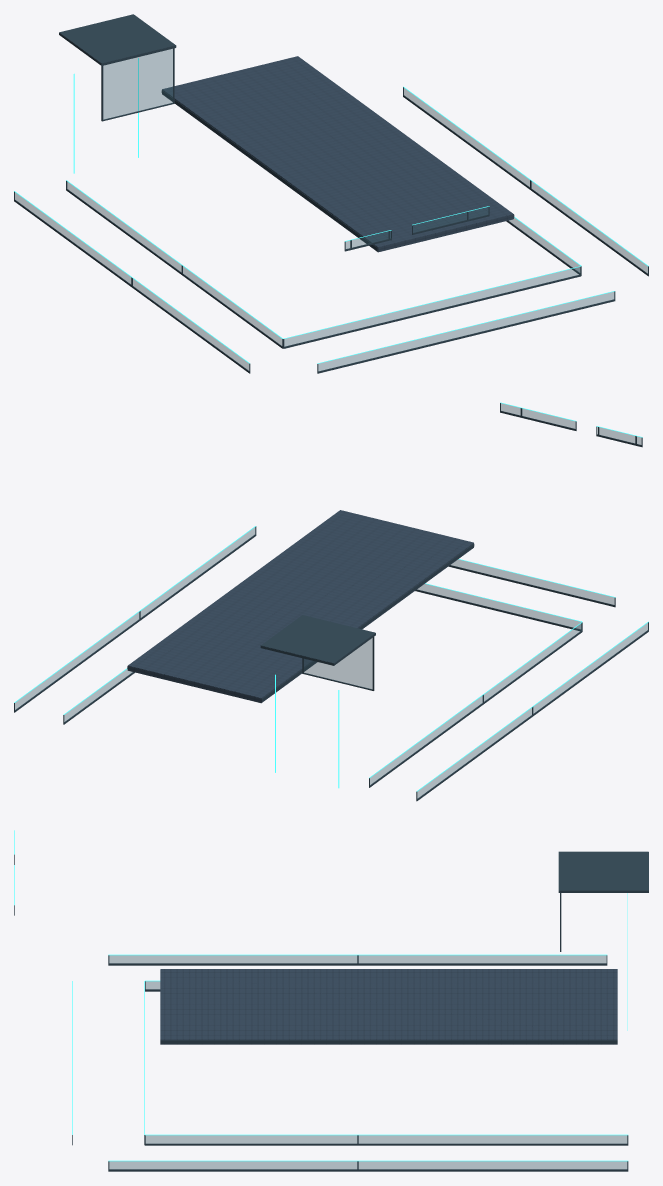
Rendered from v02-detailed-03-05.glb.
3 views of the same model, one above another, from view 1: azimuth 30°, elevation 25°; view 2: azimuth 150°, elevation 25°; view 3: azimuth 270°, elevation 25° (orthographic). The views are drawn at different scales.
Parts seen in each view (by area): view 1: v02-detailed-03-05; view 2: v02-detailed-03-05; view 3: v02-detailed-03-05.
Part boxes in pixels (x1,y1,x2,y2): v02-detailed-03-05: (14,14,648,373); v02-detailed-03-05: (14,402,648,801); v02-detailed-03-05: (14,830,648,1171).
Bounding box in the file's own units: 46.98 × 17.13 × 61.09.
Materials: 5 (1 with a texture image).
